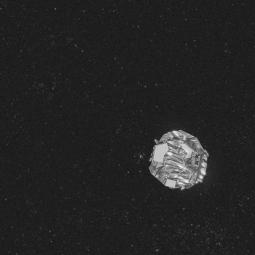lisa_pathfinder: (139, 120, 217, 195)
